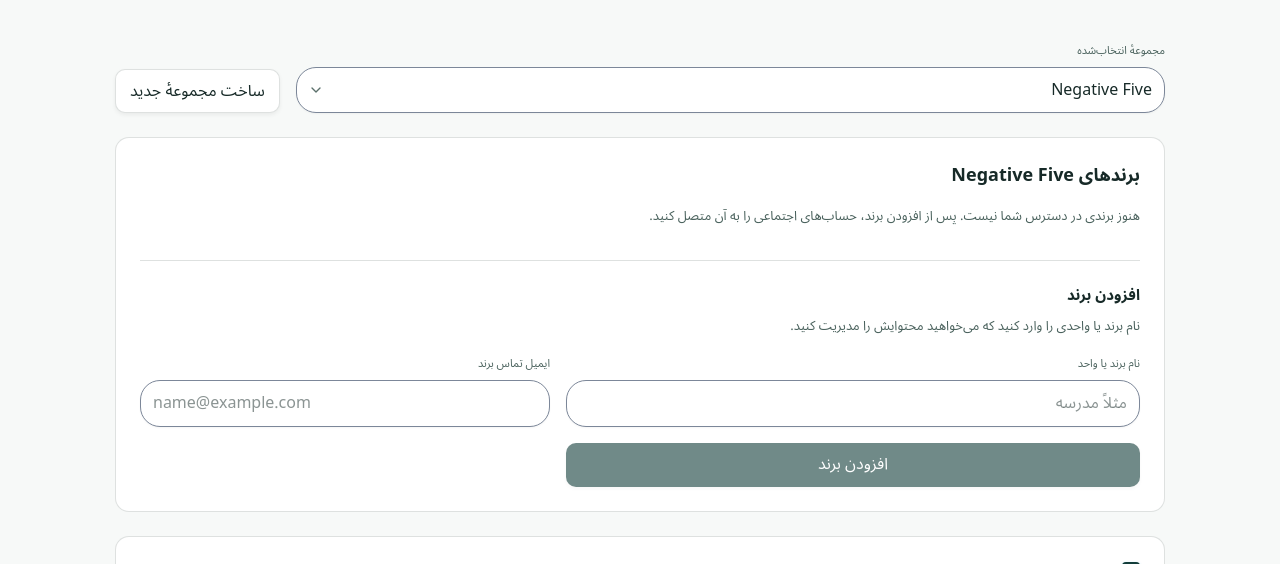
an account without an email can supply a brand contact email
Expected: the heading "برندهای Negative Five" is shown, [951,156,1140,194]
Type "School" into the field labelled "نام برند یا واحد" at (853, 403), box [567,381,1139,426]
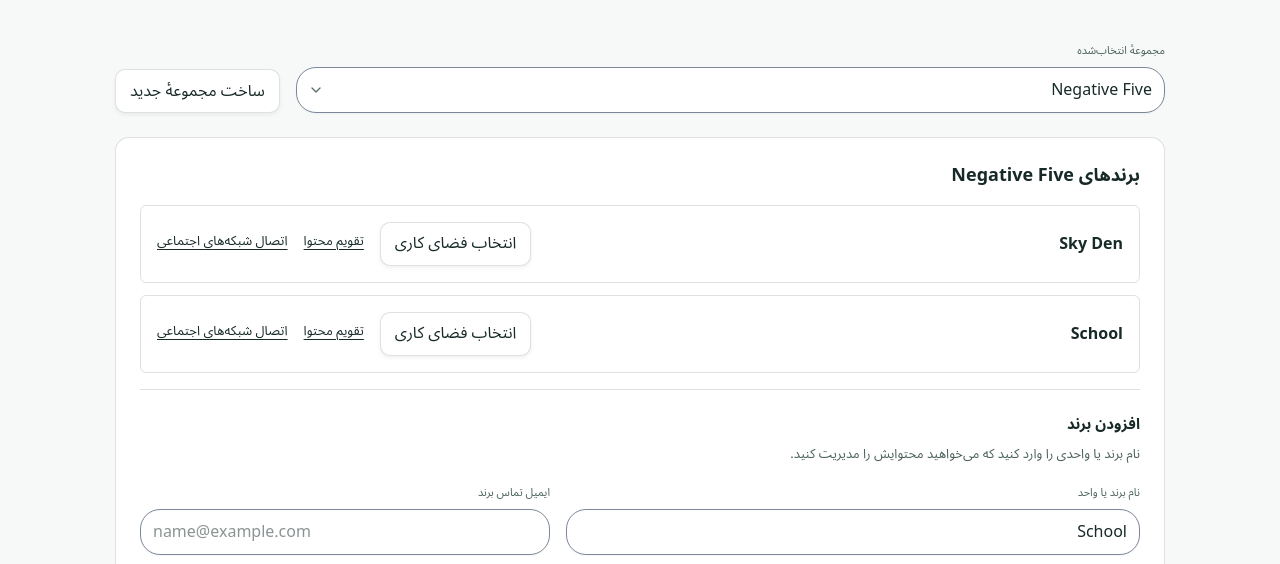
Type "n5@n5.com" into the field labelled "ایمیل تماس برند" at (345, 532), box [141,510,549,554]
(page scrolled)
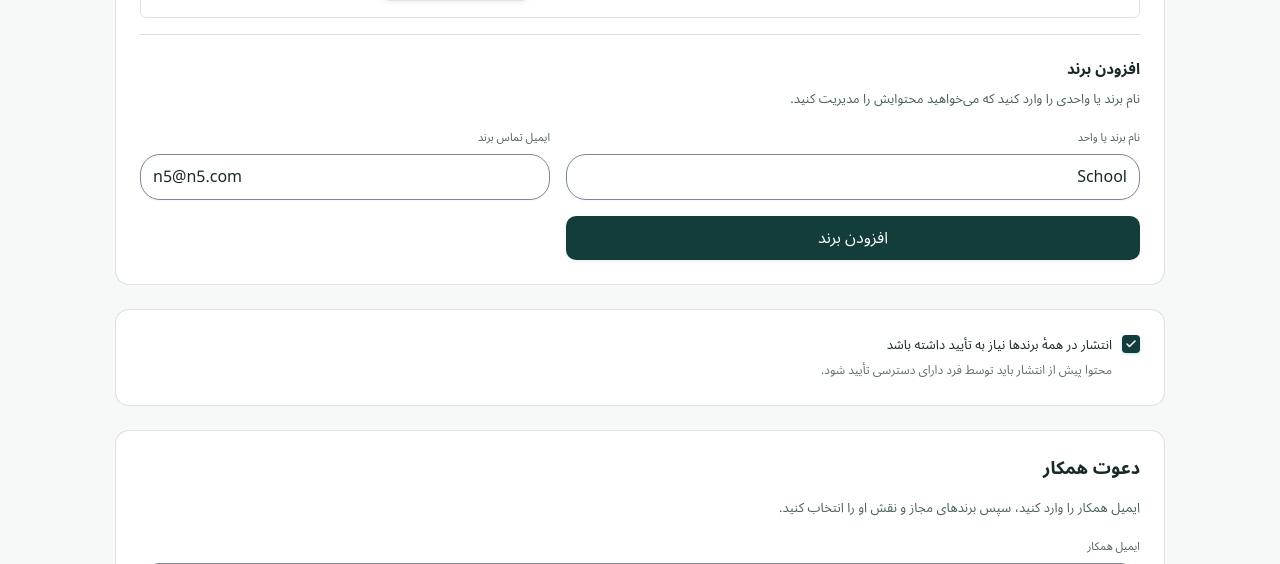
Click the button "افزودن برند" at (853, 238), box [566,216,1140,260]
(page scrolled)
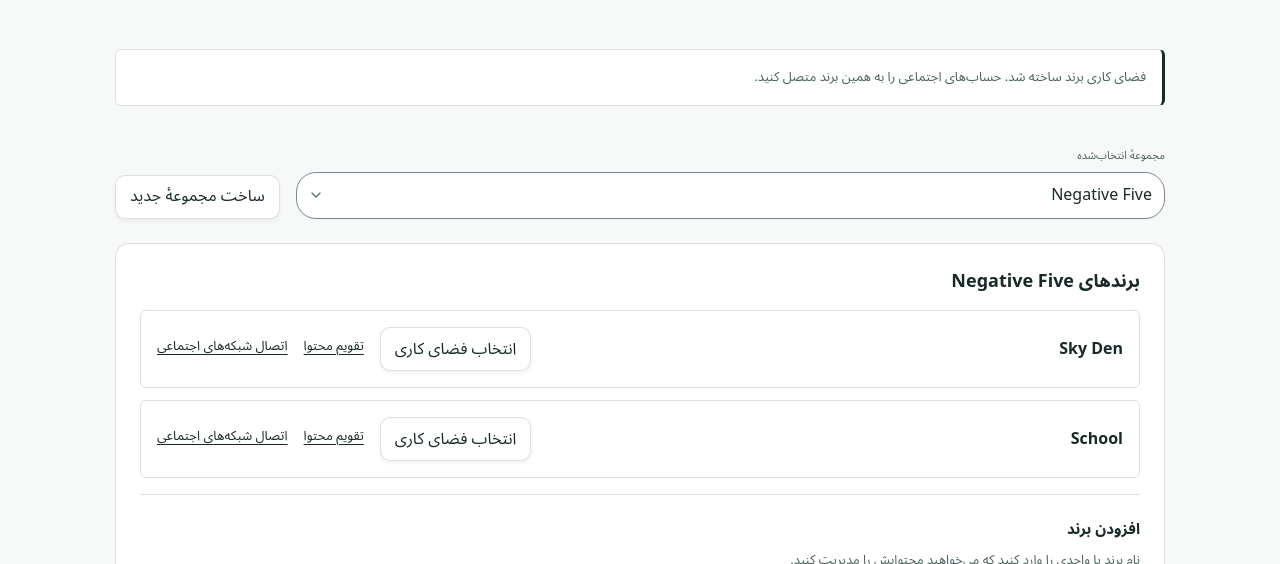
Result: the message shows "فضای کاری برند ساخته شد" at [754,63,1146,91]
